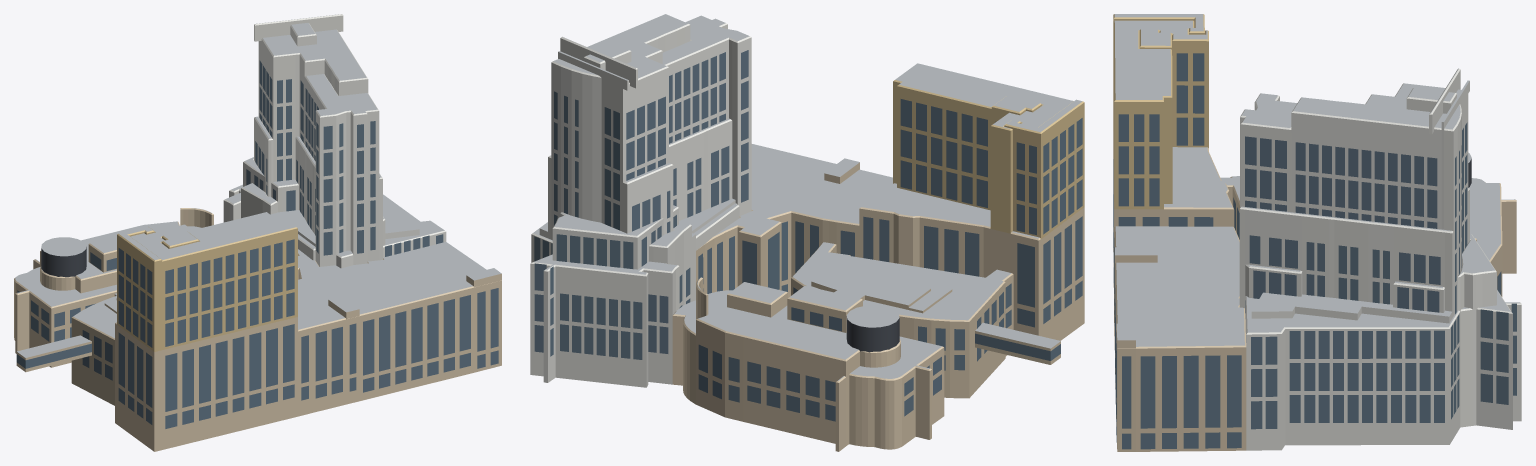
The model's file is clt-epicentre.glb.
3 renders of one model, left to right at view 1: azimuth 30°, elevation 25°; view 2: azimuth 150°, elevation 25°; view 3: azimuth 270°, elevation 25°, orthographic. The views are drawn at different scales.
Visible parts, largest first — view 1: EpiCentre; view 2: EpiCentre; view 3: EpiCentre.
Part boxes in pixels (<box>): EpiCentre: <box>14,14,501,451</box>; EpiCentre: <box>530,14,1084,451</box>; EpiCentre: <box>1113,14,1521,451</box>.
Bounding box in the file's own units: 148 × 93 × 107.
